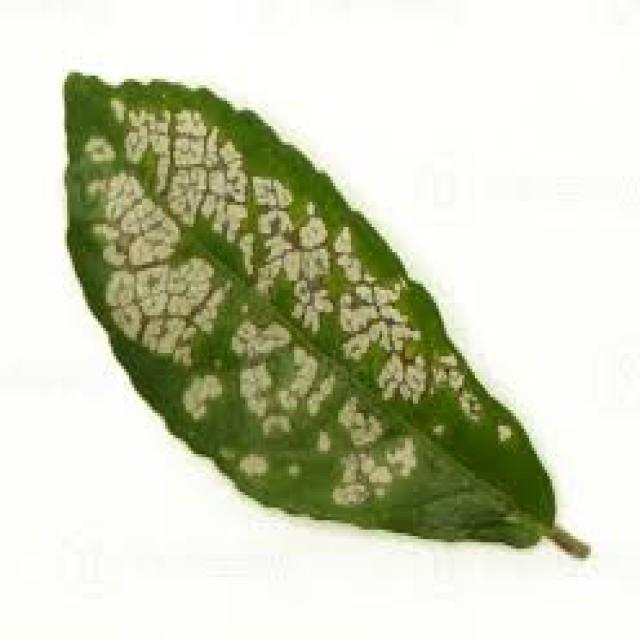leaf: (61, 69, 591, 557)
